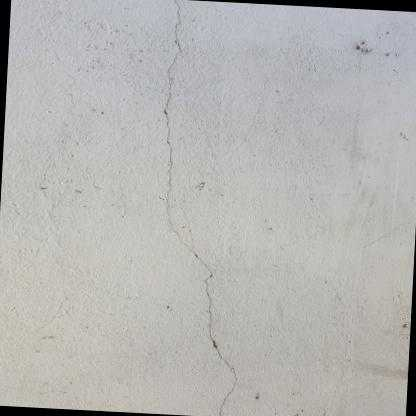crack: (162, 0, 241, 416)
